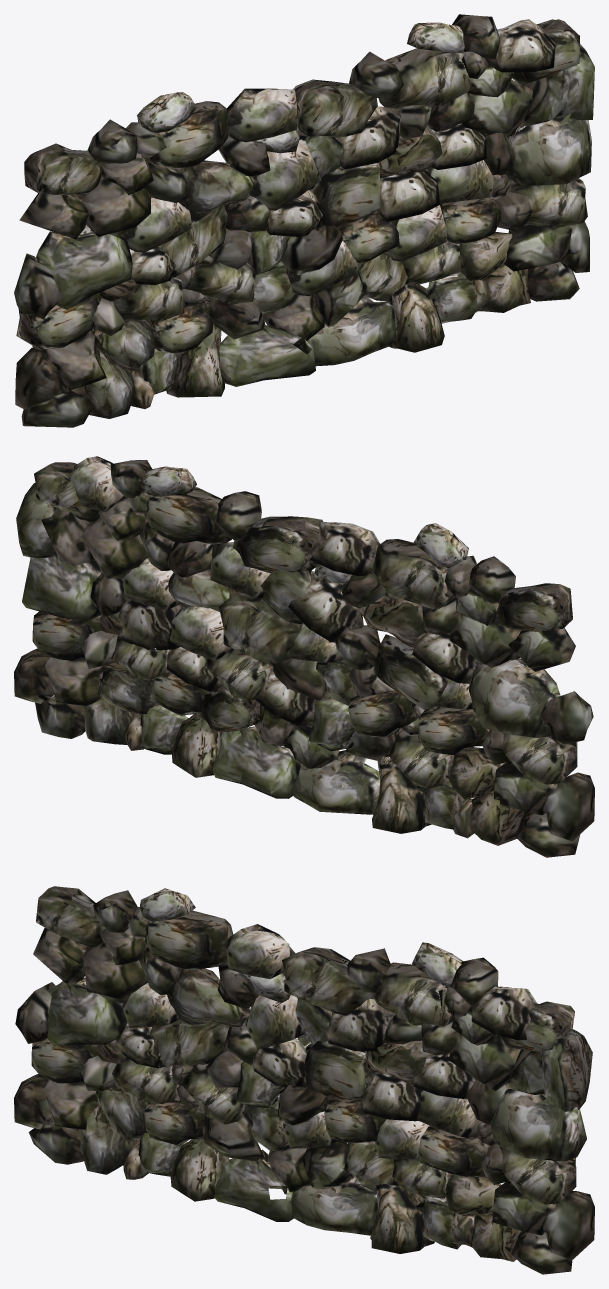
Rendered from STR_WallStoneA.FBX.
3 renders of one model, top to bottom at view 1: azimuth 30°, elevation 25°; view 2: azimuth 150°, elevation 25°; view 3: azimuth 330°, elevation 25°, orthographic. The views are drawn at different scales.
Visible parts, largest first — view 1: STR_WallStoneA; view 2: STR_WallStoneA; view 3: STR_WallStoneA.
Boxes of the visible parts, x1,y1,x2,y2 form: STR_WallStoneA: (14, 14, 594, 427); STR_WallStoneA: (14, 456, 594, 857); STR_WallStoneA: (14, 886, 594, 1274).
Size of the model in its own units: 929 by 469 by 126.
